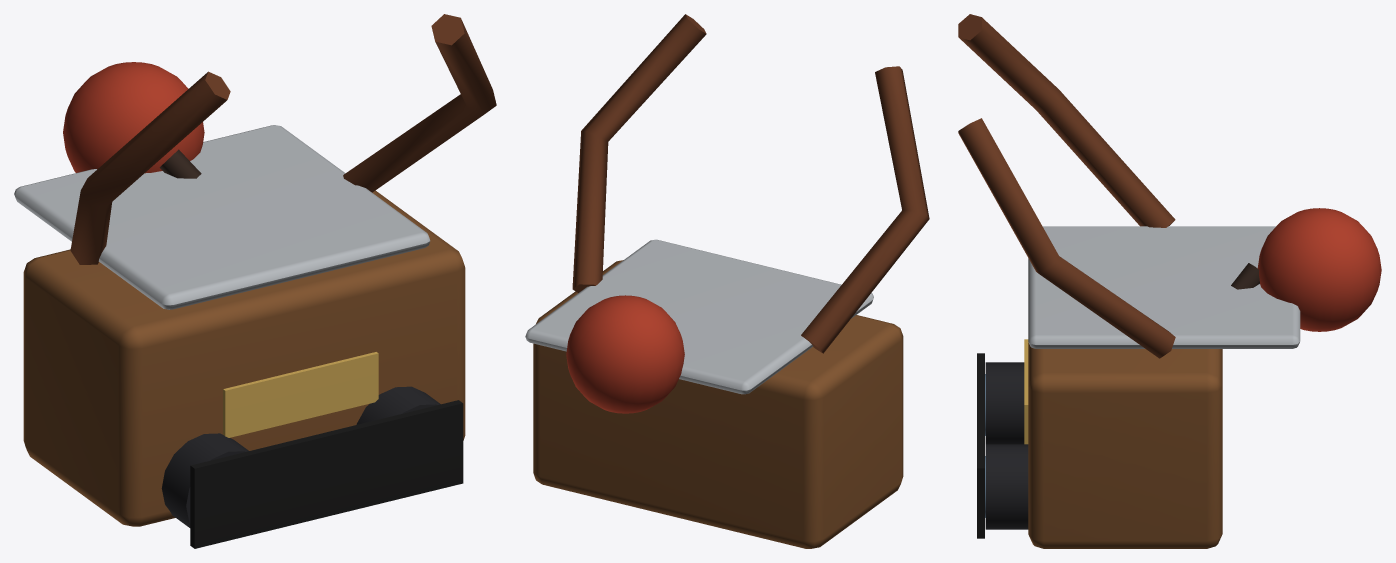
Rendered from camera.glb.
3 renders of one model, left to right at view 1: azimuth 30°, elevation 25°; view 2: azimuth 150°, elevation 25°; view 3: azimuth 270°, elevation 25°, orthographic. The views are drawn at different scales.
Visible parts, largest first — view 1: camera.plank.0, camera.metal.3, anim-shutter, camera.fabric.4, anim-ball, camera.brass.6, camera.metal.1, camera.rubber.5; view 2: camera.plank.0, camera.metal.3, camera.fabric.4, anim-ball; view 3: camera.plank.0, camera.metal.3, camera.fabric.4, anim-ball, camera.metal.1, anim-shutter, camera.brass.6.
Part boxes in pixels (x1,y1,x2,y2): camera.plank.0: (23,190,465,526); camera.metal.3: (14,125,430,309); anim-shutter: (190,400,463,548); camera.fabric.4: (70,14,496,264); anim-ball: (63,62,204,173); camera.brass.6: (223,352,378,437); camera.metal.1: (161,386,440,527); camera.rubber.5: (159,149,201,178); camera.plank.0: (533,260,903,548); camera.metal.3: (525,239,873,394); camera.fabric.4: (572,14,929,353); anim-ball: (566,295,684,413); camera.plank.0: (1028,342,1222,548); camera.metal.3: (1028,226,1300,348); camera.fabric.4: (958,14,1175,358); anim-ball: (1257,208,1381,331); camera.metal.1: (985,362,1028,529); anim-shutter: (977,353,984,538); camera.brass.6: (1024,339,1028,444).
Bounding box in the file's own units: 0.1075 × 0.1185 × 0.109.
